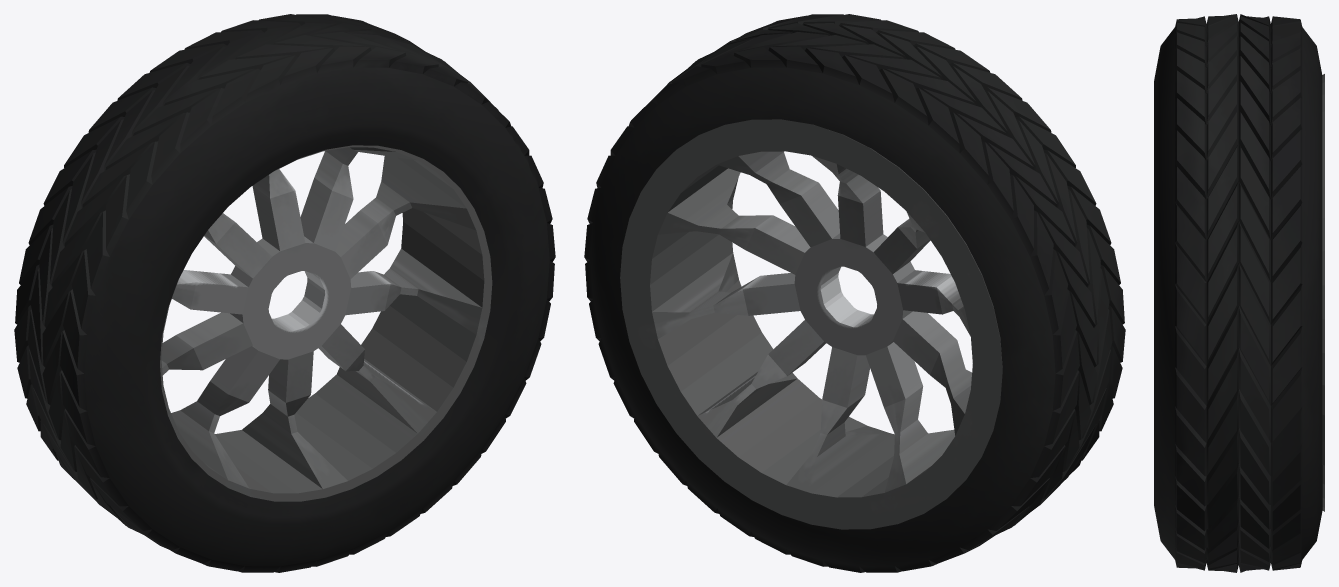
File: Rims.fbx
3 renders of one model, left to right at view 1: azimuth 30°, elevation 25°; view 2: azimuth 150°, elevation 25°; view 3: azimuth 270°, elevation 25°, orthographic.
Parts seen in each view (by area): view 1: Tire1, Rims; view 2: Tire1, Rims; view 3: Tire1, Rims.
Boxes of the visible parts, box(x1,y1,x2,y2) form: Tire1: box(14, 14, 555, 572); Rims: box(160, 145, 492, 501); Tire1: box(584, 14, 1125, 572); Rims: box(620, 119, 1002, 529); Tire1: box(1154, 14, 1322, 572); Rims: box(1322, 74, 1324, 511).
Size of the model in its own units: 70.87 by 70.87 by 21.71.
